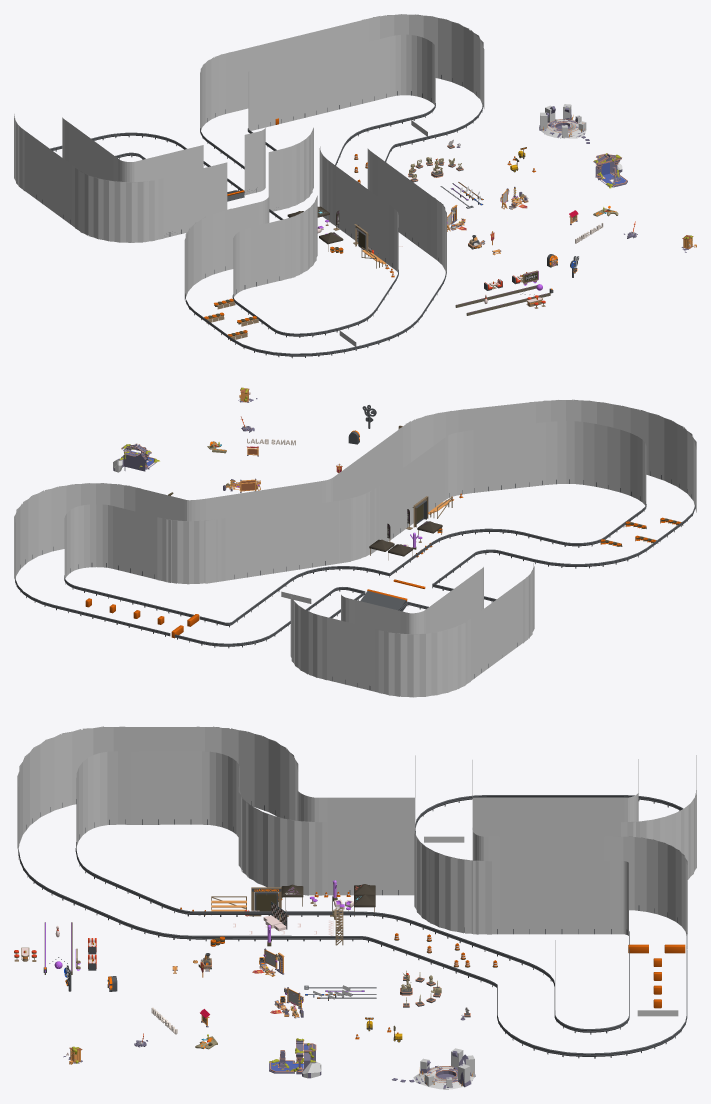
File: areas.glb
The picture shows the model from 3 angles, top to bottom: view 1: azimuth 30°, elevation 25°; view 2: azimuth 150°, elevation 25°; view 3: azimuth 270°, elevation 25°; orthographic projection. The views are drawn at different scales.
Parts seen in each view (by area): view 1: trimesh, refRailsPhysicalFixed, Cube.089, refBumpersPhysicalKinematicPositionBased, blocks; view 2: trimesh, refRailsPhysicalFixed, Cube.089, jump, Cube.088; view 3: trimesh, refRailsPhysicalFixed, Cube.088, Cube.089, Cube.173.
Boxes of the visible parts, <box> form: trimesh: <box>14,14,484,299</box>; refRailsPhysicalFixed: <box>36,75,483,358</box>; Cube.089: <box>593,153,627,188</box>; refBumpersPhysicalKinematicPositionBased: <box>455,285,550,315</box>; blocks: <box>204,298,258,340</box>; trimesh: <box>14,399,696,697</box>; refRailsPhysicalFixed: <box>15,471,695,690</box>; Cube.089: <box>113,443,159,471</box>; jump: <box>360,579,425,611</box>; Cube.088: <box>370,496,452,560</box>; trimesh: <box>17,726,696,1009</box>; refRailsPhysicalFixed: <box>18,795,687,1058</box>; Cube.088: <box>210,887,374,946</box>; Cube.089: <box>269,1038,321,1078</box>; Cube.173: <box>392,1051,475,1088</box>.
Size of the model in its own units: 169 by 22.1 by 169.
27 materials, 13 textured.
